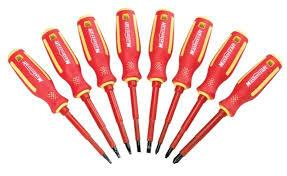screwdriver: (5, 47, 113, 164), (172, 53, 283, 163), (163, 30, 249, 158), (41, 27, 121, 157), (154, 15, 213, 153), (75, 14, 131, 153), (145, 9, 174, 153), (114, 6, 141, 151)
